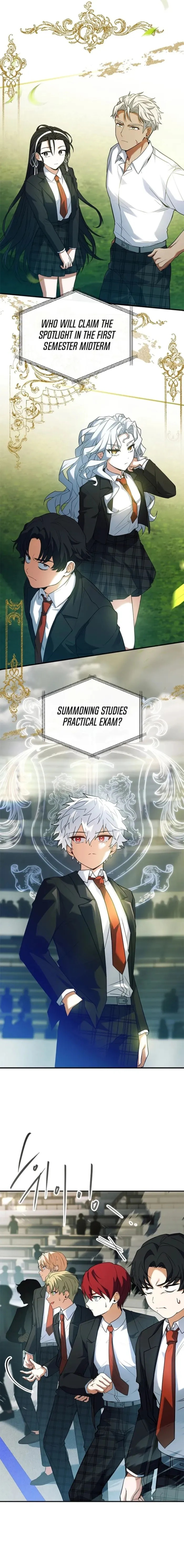bubbles: (16, 287, 139, 385), (38, 675, 150, 759)
